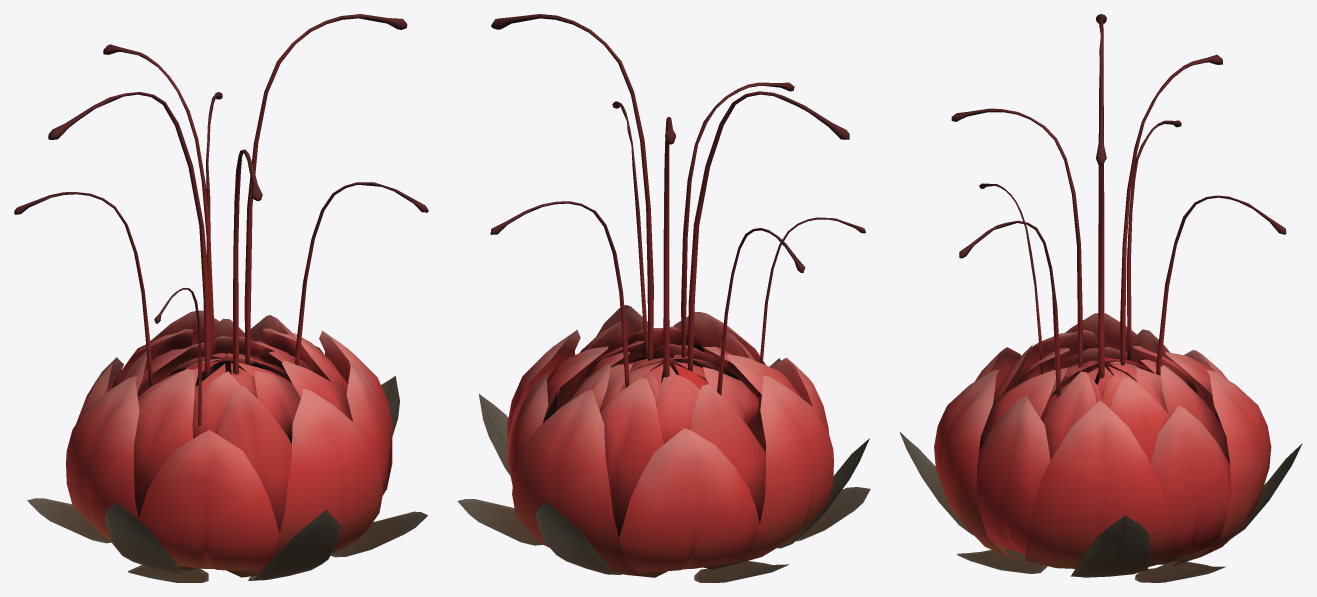
File: flower_LOD1.fbx
3 views of the same model, side by side, from view 1: azimuth 30°, elevation 25°; view 2: azimuth 150°, elevation 25°; view 3: azimuth 270°, elevation 25° (orthographic). The views are drawn at different scales.
Visible parts, largest first — view 1: PlantFlower8; view 2: PlantFlower8; view 3: PlantFlower8.
Boxes of the visible parts, left/top/right/bottom form: PlantFlower8: left=14, top=14, right=428, bottom=582; PlantFlower8: left=457, top=14, right=870, bottom=582; PlantFlower8: left=899, top=14, right=1302, bottom=582.
Bounding box in the file's own units: 7.44 × 9.79 × 7.41.
Materials: 1 (1 with a texture image).
